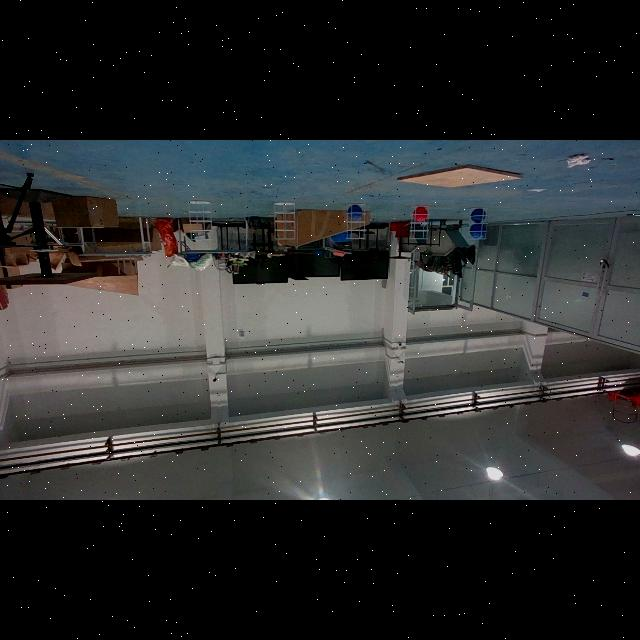B: (468, 208, 488, 222), (469, 223, 487, 237), (346, 205, 364, 219)
R: (413, 206, 429, 220)
S: (186, 198, 214, 242), (271, 198, 299, 242), (343, 200, 369, 242), (465, 204, 491, 242), (408, 204, 432, 242)
